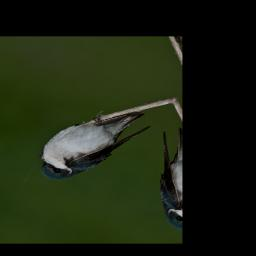Swallow: (26, 86, 157, 203)
